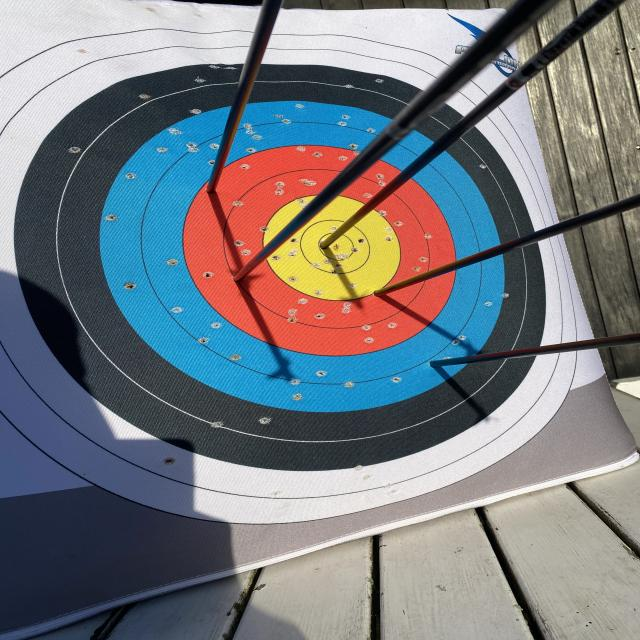Arrow_Blue: (407, 352, 452, 380)
Arrow_Red: (178, 166, 237, 201), (221, 261, 278, 291), (364, 278, 405, 311)
Arrow_Yellow: (312, 230, 352, 265)
